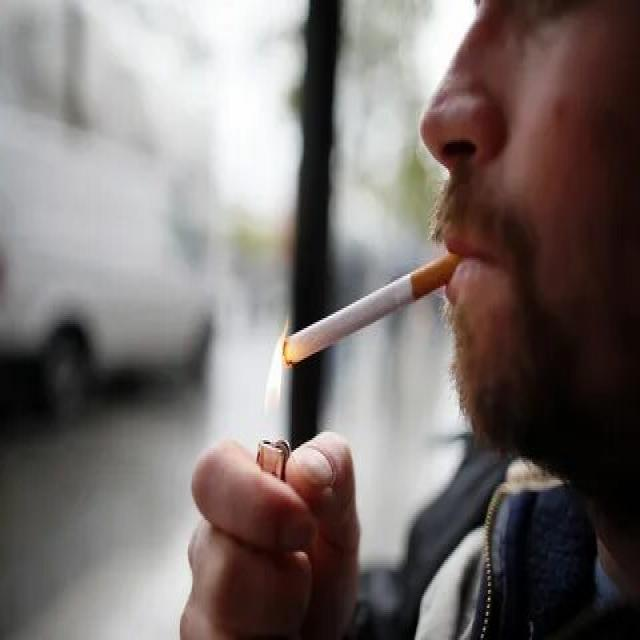smoke: (277, 254, 464, 368)
